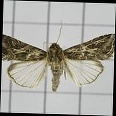Spodoptera litura: (2, 19, 114, 92)
